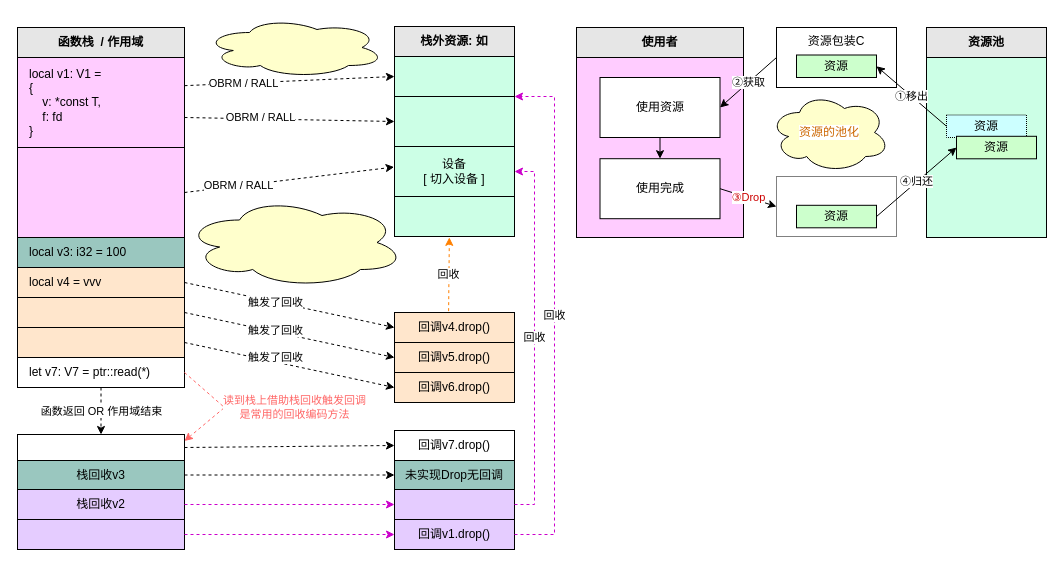
This 1064x567 diagram has some shape labels left out. The box of each missing label's shape, as (x1, y1, x2, y2) in pixels:
Drop:栈值死后回调 1.主要用来执行栈外资源析构 2.也可以做其它想做的任何操作: (184, 196, 404, 288)
local v2: V2 = { dev: Dev, }: (16, 146, 184, 238)
mem::drop(v5): (16, 296, 184, 328)
ptr::drop_in_place(*mut V6): (16, 326, 184, 358)
丢弃包装C.drop(): (776, 176, 896, 236)
其它系统资源 [ 操控对应的资源 ]: (394, 196, 514, 236)
内存 [ 存数据 ]: (394, 56, 514, 96)
回调v2.drop(): (394, 488, 514, 520)
文件句柄 [ 切入文件系统 ]: (394, 96, 514, 146)
栈回收v1: (16, 518, 184, 550)
栈回收v7: (16, 434, 184, 460)
消除Drop回调,由人工控制 ManullayDrop: (204, 16, 384, 78)
